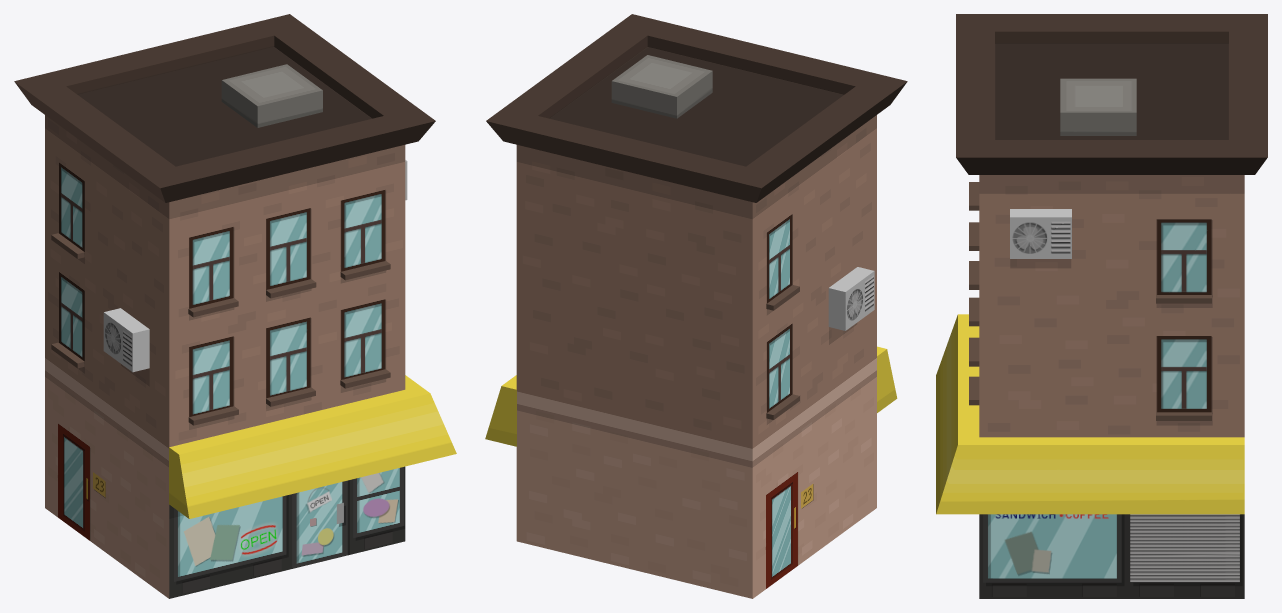
File: city_building_03.fbx
3 views of the same model, side by side, from view 1: azimuth 30°, elevation 25°; view 2: azimuth 150°, elevation 25°; view 3: azimuth 270°, elevation 25° (orthographic). The views are drawn at different scales.
Parts seen in each view (by area): view 1: city:polySurface333; view 2: city:polySurface333; view 3: city:polySurface333.
Boxes of the visible parts, x1,y1,x2,y2 form: city:polySurface333: (14,14,456,598); city:polySurface333: (485,14,907,598); city:polySurface333: (936,14,1267,598).
Size of the model in its own units: 5.96 by 8.6 by 5.58.
